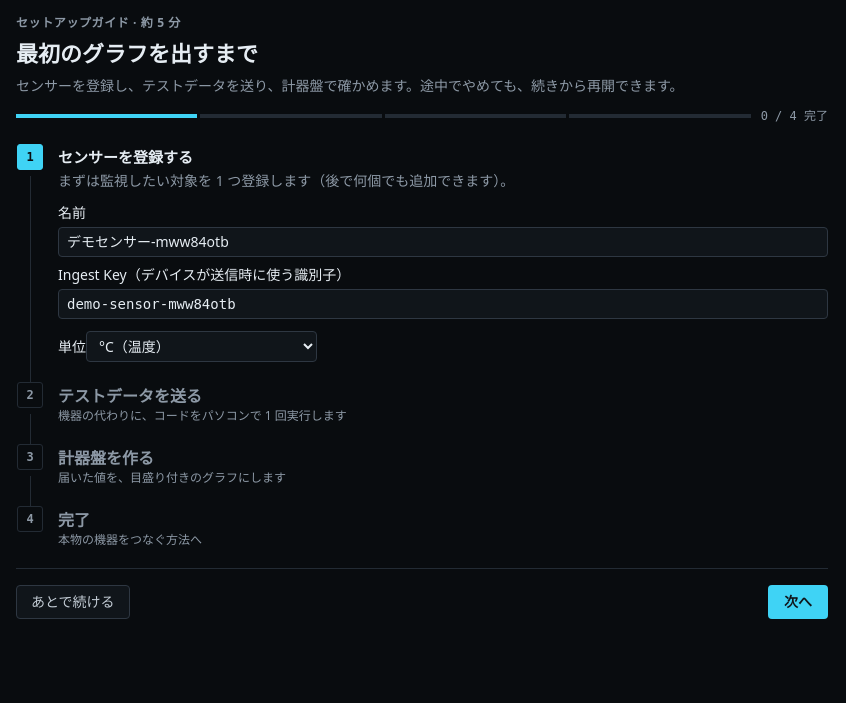
Test: SetupWizard › API エラー時にエラーメッセージを表示する
Step 1. Click the button "次へ" → (798, 602), box [768,584,828,618]
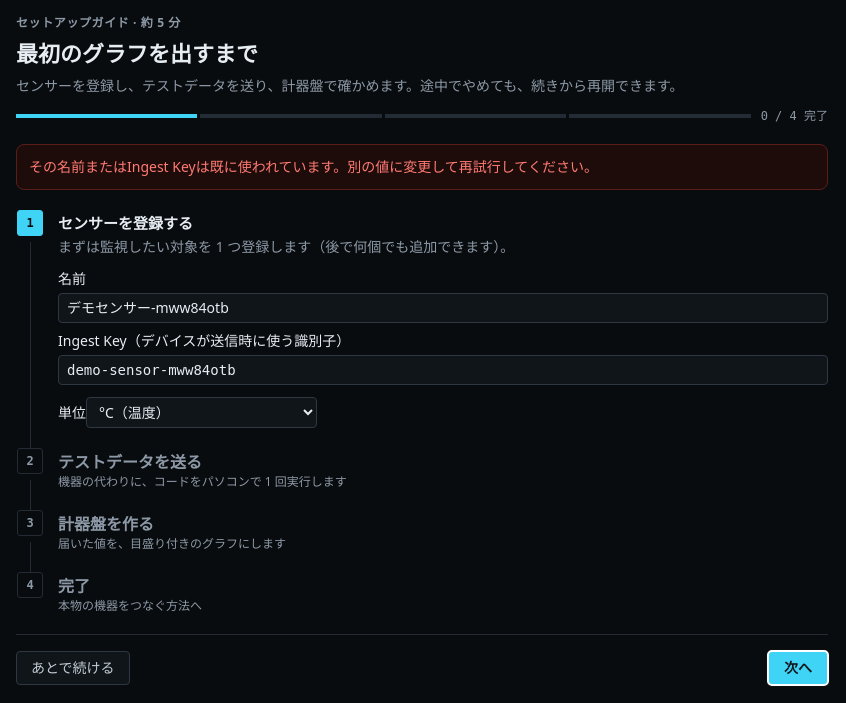
Result: the text "その名前またはIngest Keyは既に使われています。別の値に変更して再試行してください。" is shown at [16,144,828,190]
